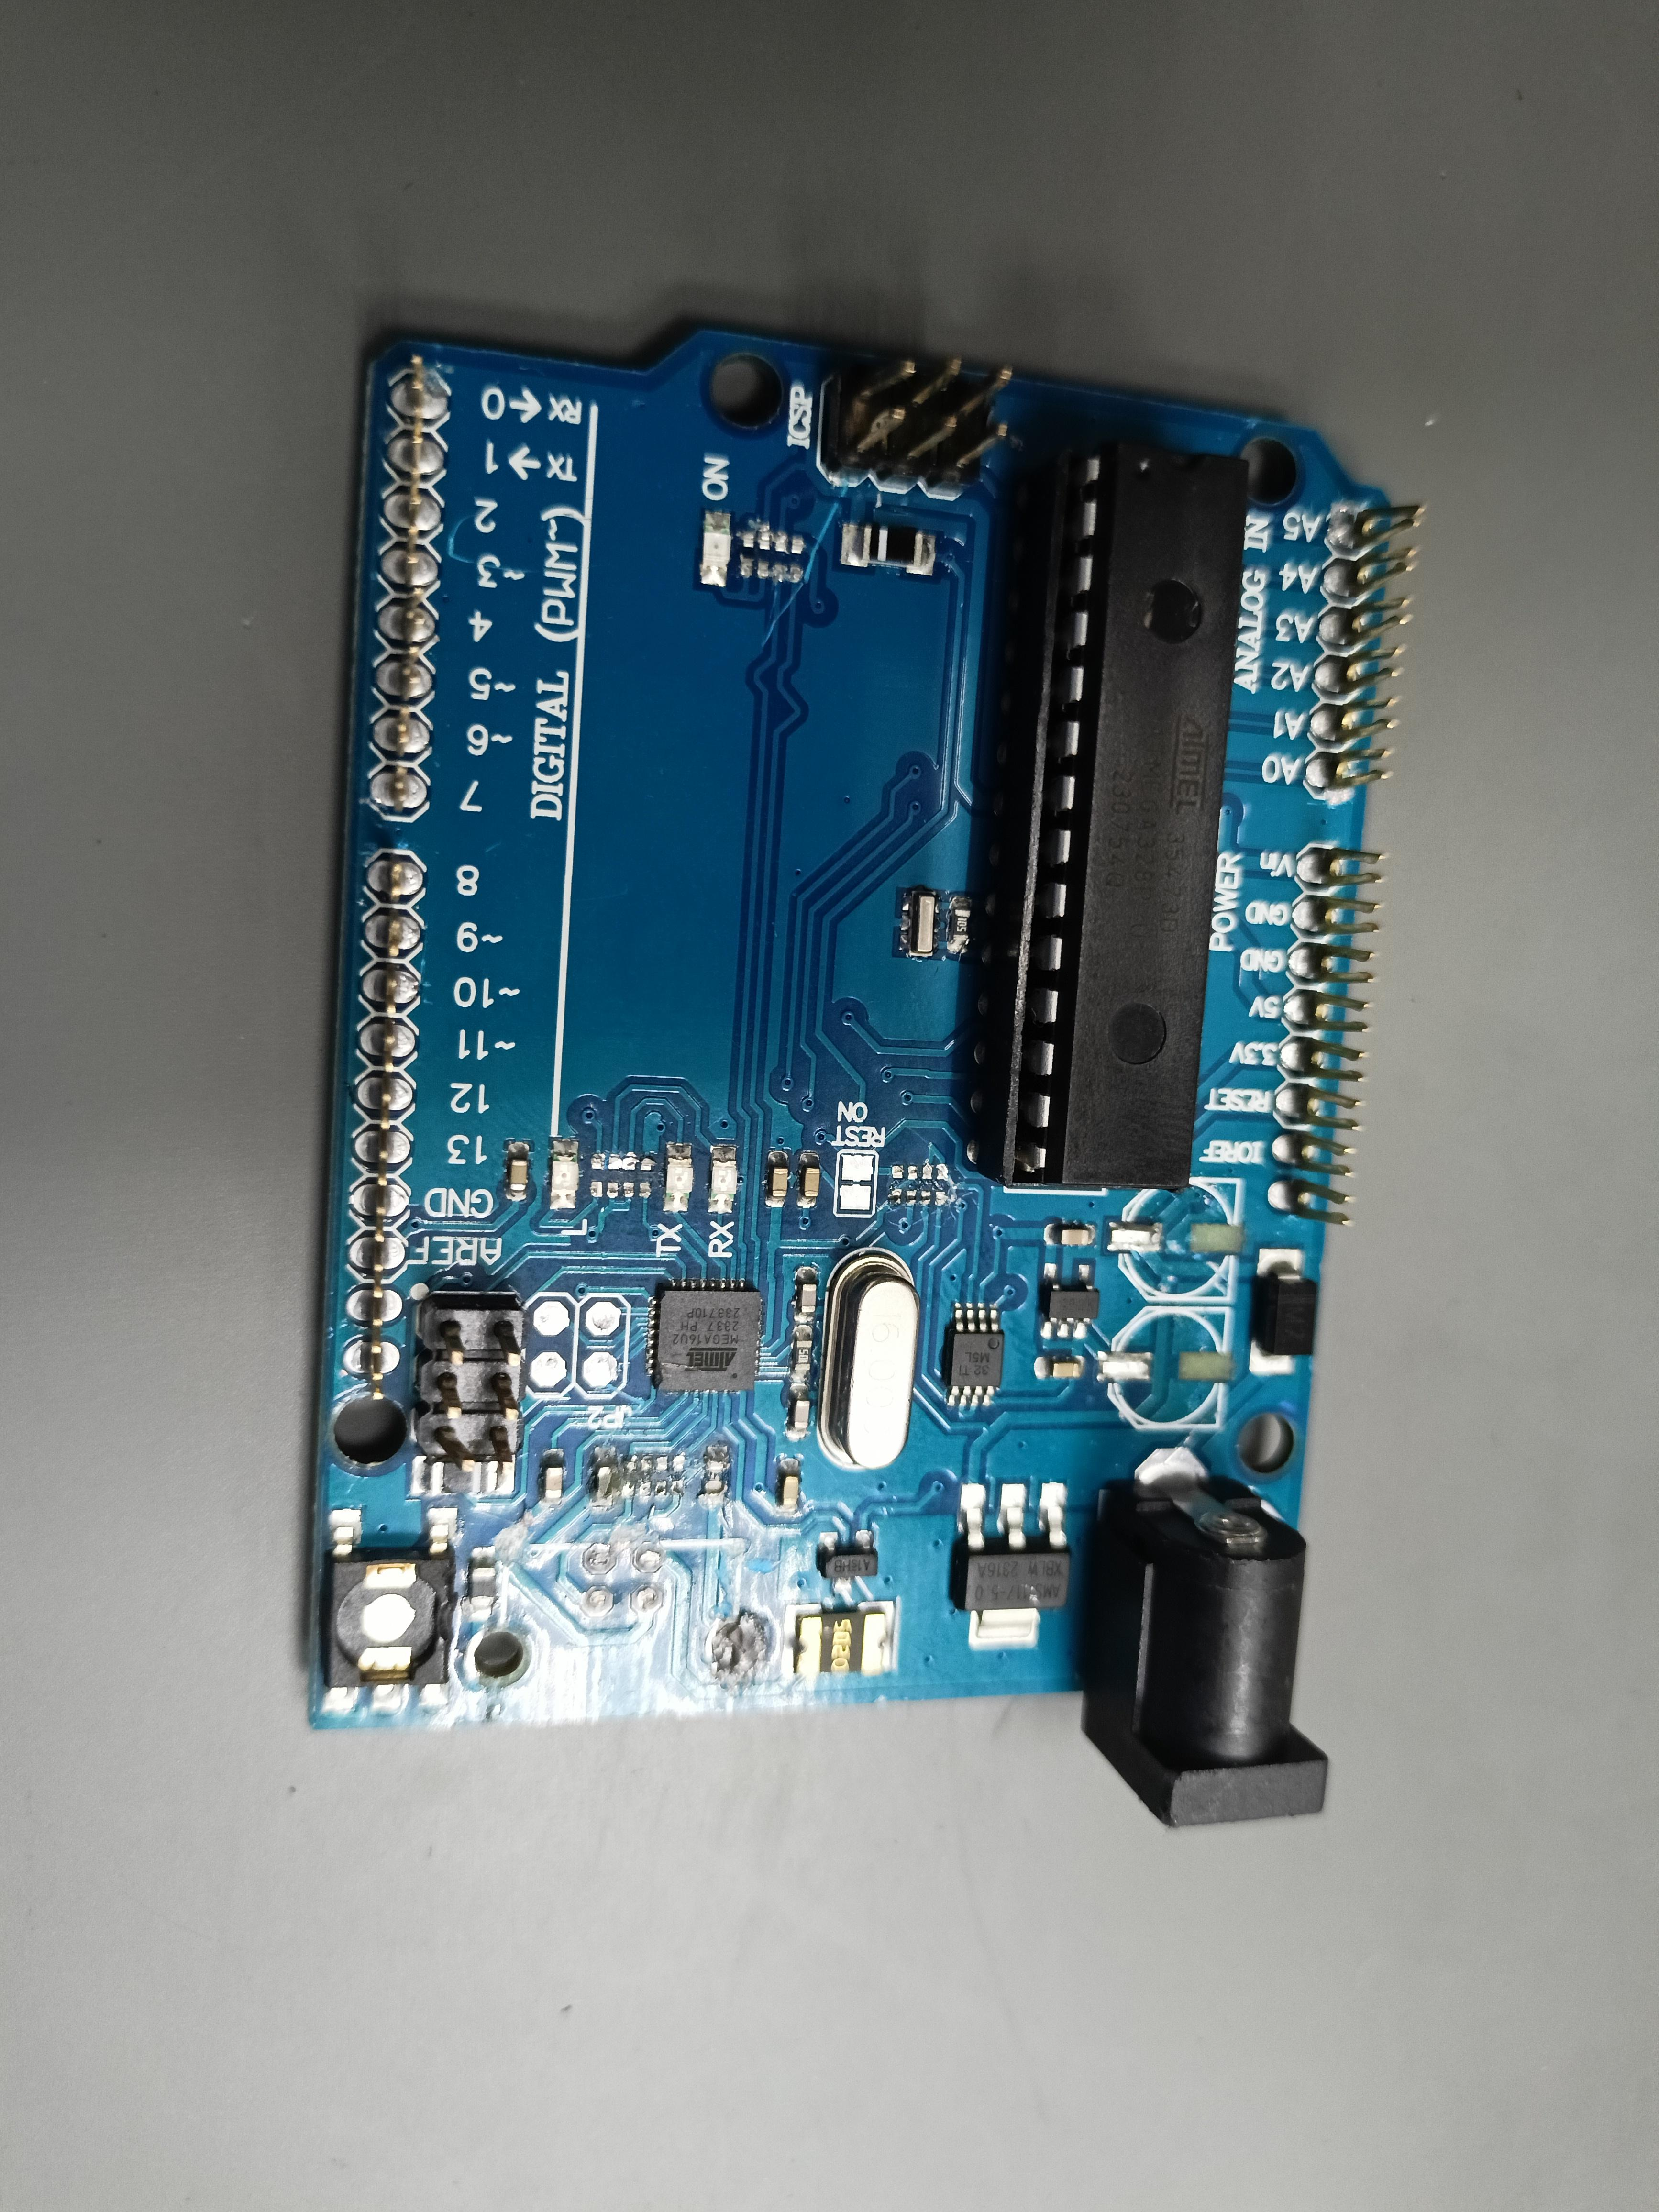ATmega328 chip: (976, 442, 1249, 1190)
Arduino board: (308, 329, 1427, 1827)
